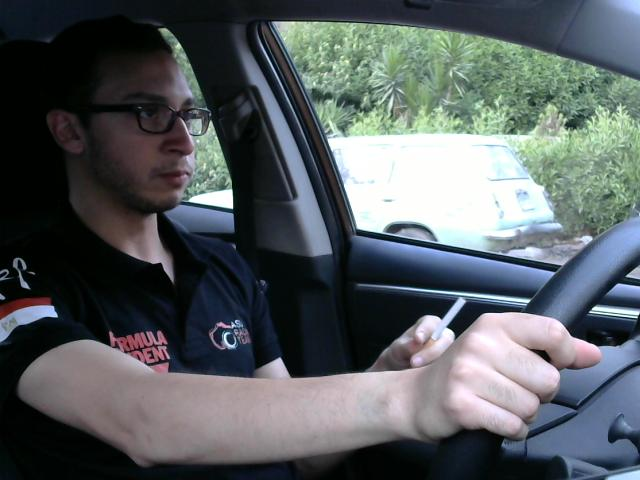Smoking: (411, 291, 483, 357)
